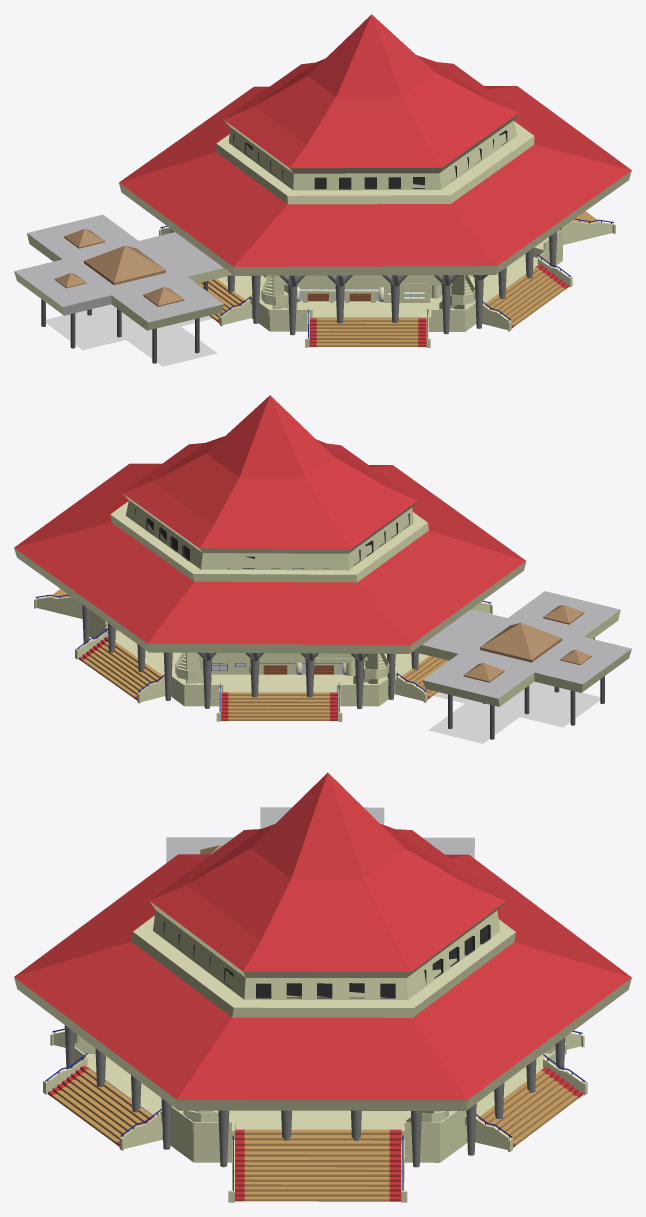
The model's file is grahatesting.fbx.
3 renders of one model, top to bottom at view 1: azimuth 30°, elevation 25°; view 2: azimuth 150°, elevation 25°; view 3: azimuth 270°, elevation 25°, orthographic. The views are drawn at different scales.
Visible parts, largest first — view 1: Plane.016_Plane.019, plafondepan_Cube, Cylinder, tangga.010_Cylinder.024, tangga.011_Cylinder.025, Plane.012_Plane.025, Plane.011_Plane.024, sampingnya_depan_Plane.000, piramid1_Cube.001, tangga.009_Cylinder.023, Plane.008, tangga.006_Cylinder.000 (+7 smaller); view 2: Plane.016_Plane.019, plafondepan_Cube, Cylinder, tangga.008_Cylinder.022, tangga.007_Cylinder.021, Plane.011_Plane.024, Plane.012_Plane.025, piramid1_Cube.001, sampingnya_depan.001_Plane.010, tangga.009_Cylinder.023, tangga.006_Cylinder.000, Plane.004 (+4 smaller); view 3: Plane.016_Plane.019, tangga.006_Cylinder.000, Cylinder, tangga.011_Cylinder.025, tangga.007_Cylinder.021, plafondepan_Cube.
Part boxes in pixels (x1=…): Plane.016_Plane.019: x1=119, y1=14, x2=631, y2=275; plafondepan_Cube: x1=14, y1=214, x2=232, y2=330; Cylinder: x1=217, y1=227, x2=563, y2=331; tangga.010_Cylinder.024: x1=305, y1=309, x2=430, y2=347; tangga.011_Cylinder.025: x1=482, y1=254, x2=572, y2=331; Plane.012_Plane.025: x1=46, y1=304, x2=212, y2=350; Plane.011_Plane.024: x1=126, y1=323, x2=217, y2=366; sampingnya_depan_Plane.000: x1=296, y1=285, x2=430, y2=302; piramid1_Cube.001: x1=84, y1=245, x2=165, y2=285; tangga.009_Cylinder.023: x1=197, y1=279, x2=252, y2=326; Plane.008: x1=284, y1=275, x2=451, y2=285; tangga.006_Cylinder.000: x1=563, y1=211, x2=615, y2=244; Plane.016_Plane.019: x1=14, y1=395, x2=526, y2=653; plafondepan_Cube: x1=413, y1=591, x2=631, y2=706; Cylinder: x1=89, y1=610, x2=428, y2=706; tangga.008_Cylinder.022: x1=216, y1=683, x2=342, y2=721; tangga.007_Cylinder.021: x1=75, y1=628, x2=165, y2=703; Plane.011_Plane.024: x1=428, y1=681, x2=559, y2=743; Plane.012_Plane.025: x1=433, y1=682, x2=600, y2=727; piramid1_Cube.001: x1=480, y1=623, x2=561, y2=662; sampingnya_depan.001_Plane.010: x1=200, y1=660, x2=349, y2=675; tangga.009_Cylinder.023: x1=395, y1=656, x2=448, y2=702; tangga.006_Cylinder.000: x1=34, y1=589, x2=82, y2=618; Plane.004: x1=198, y1=653, x2=366, y2=660; Plane.016_Plane.019: x1=14, y1=772, x2=631, y2=1110; tangga.006_Cylinder.000: x1=228, y1=1121, x2=407, y2=1202; Cylinder: x1=74, y1=1042, x2=566, y2=1162; tangga.011_Cylinder.025: x1=43, y1=1053, x2=162, y2=1150; tangga.007_Cylinder.021: x1=475, y1=1054, x2=587, y2=1151; plafondepan_Cube: x1=166, y1=807, x2=474, y2=862.
Size of the model in its own units: 296 by 127 by 232.
